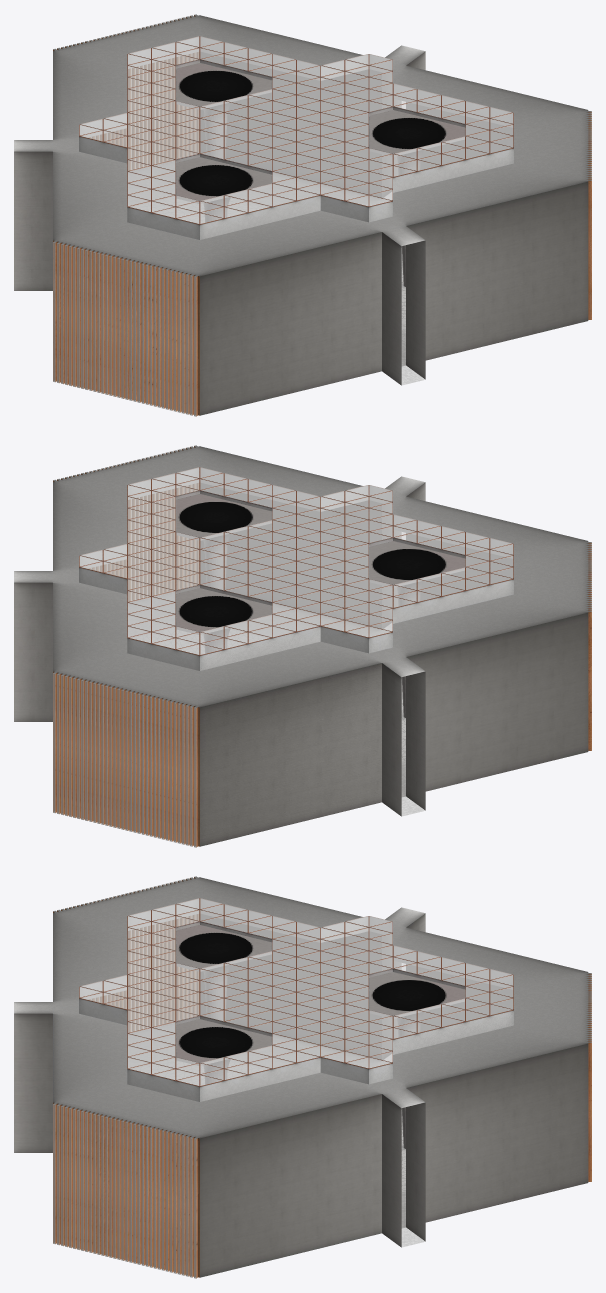
The model's file is Cry_Empty.dae.
The picture shows the model from 3 angles, top to bottom: view 1: azimuth 30°, elevation 25°; view 2: azimuth 150°, elevation 25°; view 3: azimuth 270°, elevation 25°; orthographic projection.
Parts seen in each view (by area): view 1: 08_Wall, 01_Glass, 07_Top, 03_Wood, 06_Column, 02_Black, 04_floor, 05_Center; view 2: 08_Wall, 01_Glass, 07_Top, 03_Wood, 06_Column, 02_Black, 04_floor, 05_Center; view 3: 08_Wall, 01_Glass, 07_Top, 03_Wood, 06_Column, 02_Black, 04_floor, 05_Center.
Boxes of the visible parts, x1,y1,x2,y2 form: 08_Wall: (14,51,588,415); 01_Glass: (53,36,513,416); 07_Top: (14,14,591,277); 03_Wood: (53,15,591,416); 06_Column: (175,59,465,286); 02_Black: (79,36,513,224); 04_floor: (53,161,425,416); 05_Center: (79,197,405,368); 08_Wall: (14,482,588,846); 01_Glass: (53,467,513,847); 07_Top: (14,445,591,708); 03_Wood: (53,446,591,847); 06_Column: (175,490,465,717); 02_Black: (79,467,513,655); 04_floor: (53,592,425,847); 05_Center: (79,628,405,799); 08_Wall: (14,913,588,1277); 01_Glass: (53,898,513,1278); 07_Top: (14,876,591,1139); 03_Wood: (53,877,591,1278); 06_Column: (175,921,465,1148); 02_Black: (79,898,513,1086); 04_floor: (53,1023,425,1278); 05_Center: (79,1059,405,1230).
Bounding box in the file's own units: 33.47 × 31.08 × 9.2.
Materials: 8 (7 with a texture image).
